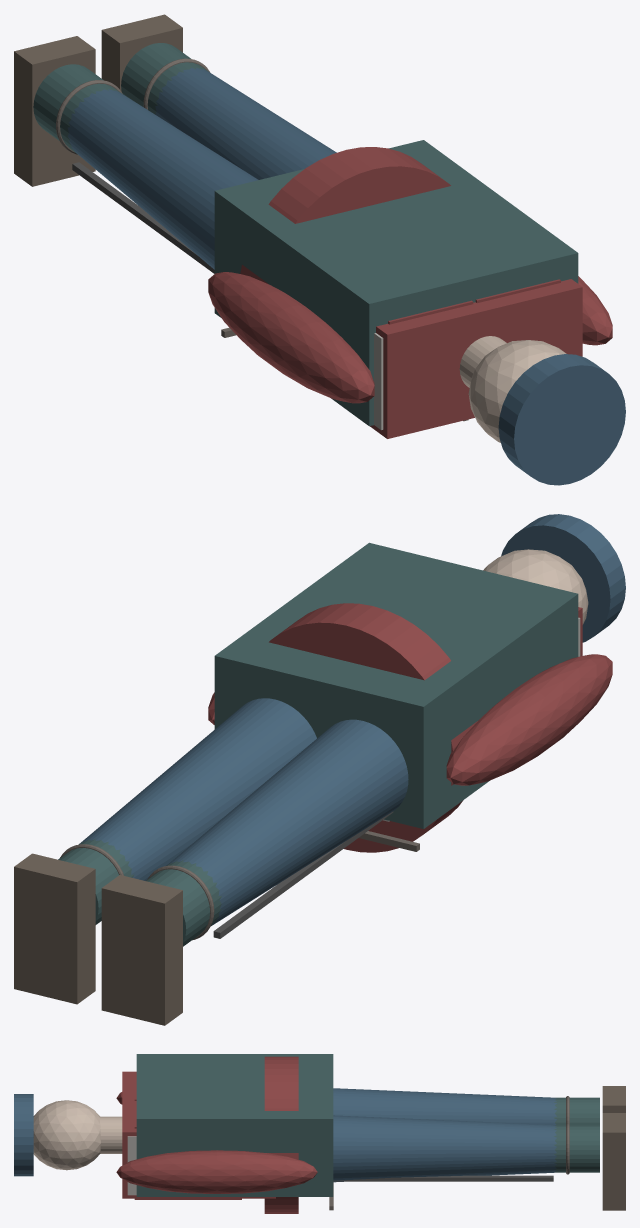
The model's file is MASTER_063_STAGE3_DETAIL.glb.
3 renders of one model, top to bottom at view 1: azimuth 30°, elevation 25°; view 2: azimuth 150°, elevation 25°; view 3: azimuth 270°, elevation 25°, orthographic. The views are drawn at different scales.
Visible parts, largest first — view 1: slot_outerwear__xhokë/xhulia, slot_upper_inner__këmishë, slot_lower_main__tirq_L, slot_headwear__mbulesë_koke, slot_upper_inner_sleeve_L, slot_lower_main__tirq_R, slot_waist__brez, slot_footwear__opinga_L, mannequin_head, slot_footwear__opinga_R, slot_legwear__çorape_L, slot_legwear__çorape_R (+4 smaller); view 2: slot_outerwear__xhokë/xhulia, slot_lower_main__tirq_L, slot_lower_main__tirq_R, slot_footwear__opinga_R, slot_footwear__opinga_L, slot_upper_inner_sleeve_L, slot_waist__brez, slot_headwear__mbulesë_koke, mannequin_head, slot_legwear__çorape_L, slot_legwear__çorape_R, slot_trim__tirq_gajtan_L; view 3: slot_outerwear__xhokë/xhulia, slot_lower_main__tirq_R, slot_upper_inner_sleeve_R, slot_lower_main__tirq_L, mannequin_head, slot_waist__brez, slot_footwear__opinga_R, slot_legwear__çorape_R, slot_headwear__mbulesë_koke, slot_upper_inner__këmishë, slot_trim__tirq_gajtan_R, slot_legwear__çorape_L (+4 smaller).
Part boxes in pixels (x1,y1,x2,y2): slot_outerwear__xhokë/xhulia: (214, 140, 578, 426); slot_upper_inner__këmishë: (370, 279, 582, 438); slot_lower_main__tirq_L: (67, 89, 258, 269); slot_headwear__mbulesë_koke: (498, 354, 625, 485); slot_upper_inner_sleeve_L: (208, 272, 374, 403); slot_lower_main__tirq_R: (155, 68, 336, 179); slot_waist__brez: (240, 147, 450, 283); slot_footwear__opinga_L: (14, 36, 95, 186); mannequin_head: (468, 340, 566, 442); slot_footwear__opinga_R: (101, 14, 182, 91); slot_legwear__çorape_L: (33, 64, 121, 154); slot_legwear__çorape_R: (121, 43, 208, 114); slot_outerwear__xhokë/xhulia: (214, 542, 578, 828); slot_lower_main__tirq_L: (167, 719, 408, 925); slot_lower_main__tirq_R: (79, 698, 316, 880); slot_footwear__opinga_R: (14, 853, 95, 1004); slot_footwear__opinga_L: (101, 875, 182, 1025); slot_upper_inner_sleeve_L: (446, 654, 612, 785); slot_waist__brez: (269, 603, 477, 852); slot_headwear__mbulesë_koke: (501, 514, 625, 642); mannequin_head: (483, 549, 588, 624); slot_legwear__çorape_L: (146, 860, 221, 946); slot_legwear__çorape_R: (58, 839, 134, 924); slot_trim__tirq_gajtan_L: (213, 811, 393, 938); slot_outerwear__xhokë/xhulia: (136, 1054, 333, 1196); slot_lower_main__tirq_R: (333, 1115, 556, 1182); slot_upper_inner_sleeve_R: (116, 1150, 317, 1193); slot_lower_main__tirq_L: (333, 1088, 556, 1124); mannequin_head: (33, 1100, 100, 1170); slot_waist__brez: (264, 1056, 298, 1213); slot_footwear__opinga_R: (602, 1113, 625, 1210); slot_legwear__çorape_R: (554, 1125, 599, 1172); slot_headwear__mbulesë_koke: (14, 1094, 33, 1176); slot_upper_inner__këmishë: (122, 1071, 275, 1198); slot_trim__tirq_gajtan_R: (333, 1175, 553, 1181); slot_legwear__çorape_L: (554, 1097, 599, 1124).
Size of the model in its own units: 0.6126 by 0.44 by 1.71.
